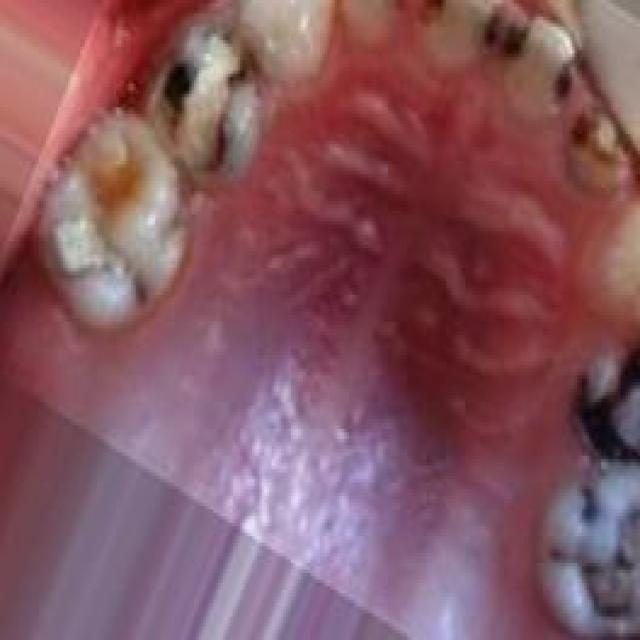caries: (48, 131, 164, 315), (541, 453, 640, 638), (480, 0, 579, 113), (567, 324, 640, 455), (198, 49, 258, 175), (560, 106, 628, 197), (152, 44, 201, 129)
